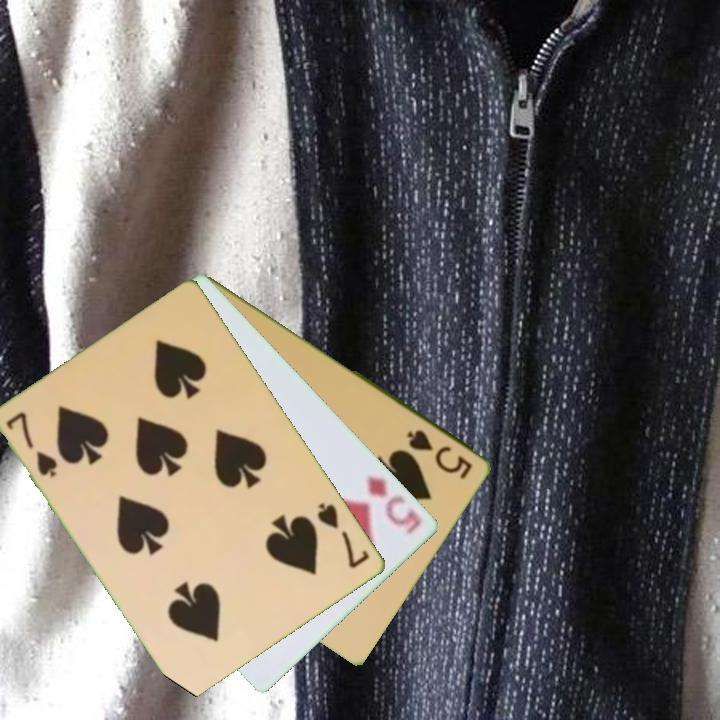5d: (364, 471, 425, 537)
5s: (404, 425, 476, 483)
7s: (314, 499, 373, 572), (3, 408, 62, 480)
